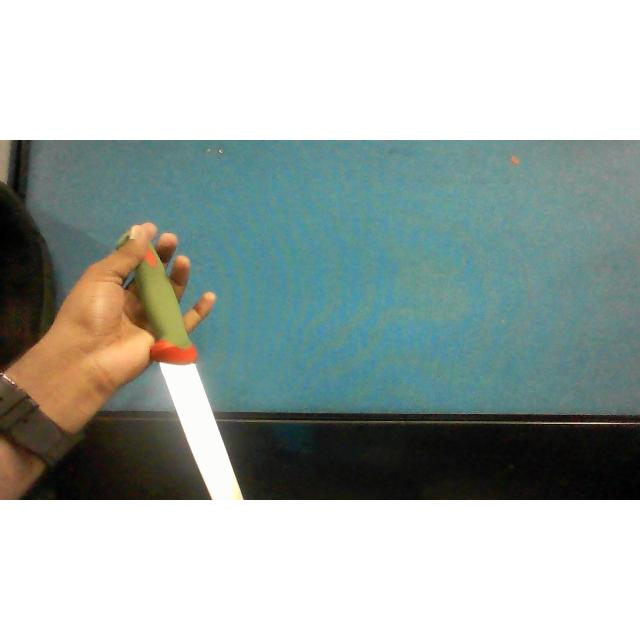Knife: (133, 244, 241, 500)
